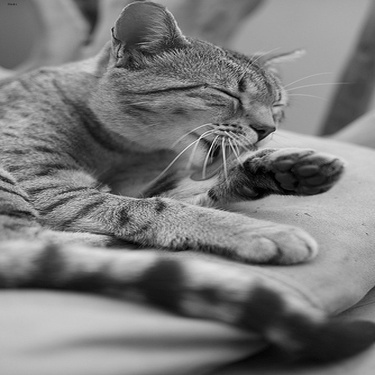cat: (1, 5, 371, 357)
